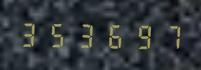five: (44, 19, 70, 49)
nine: (126, 20, 152, 50)
seven: (153, 20, 179, 51)
six: (99, 19, 125, 50)
three: (17, 18, 43, 49), (72, 19, 98, 49)
